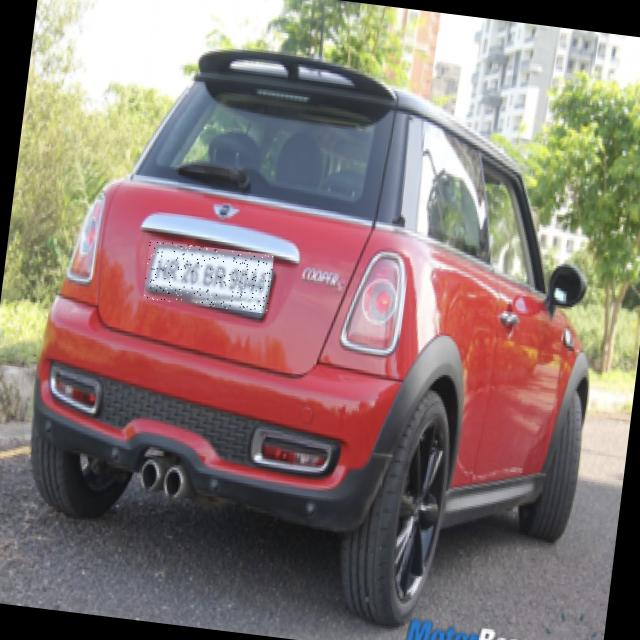Plate: (144, 241, 275, 315)
